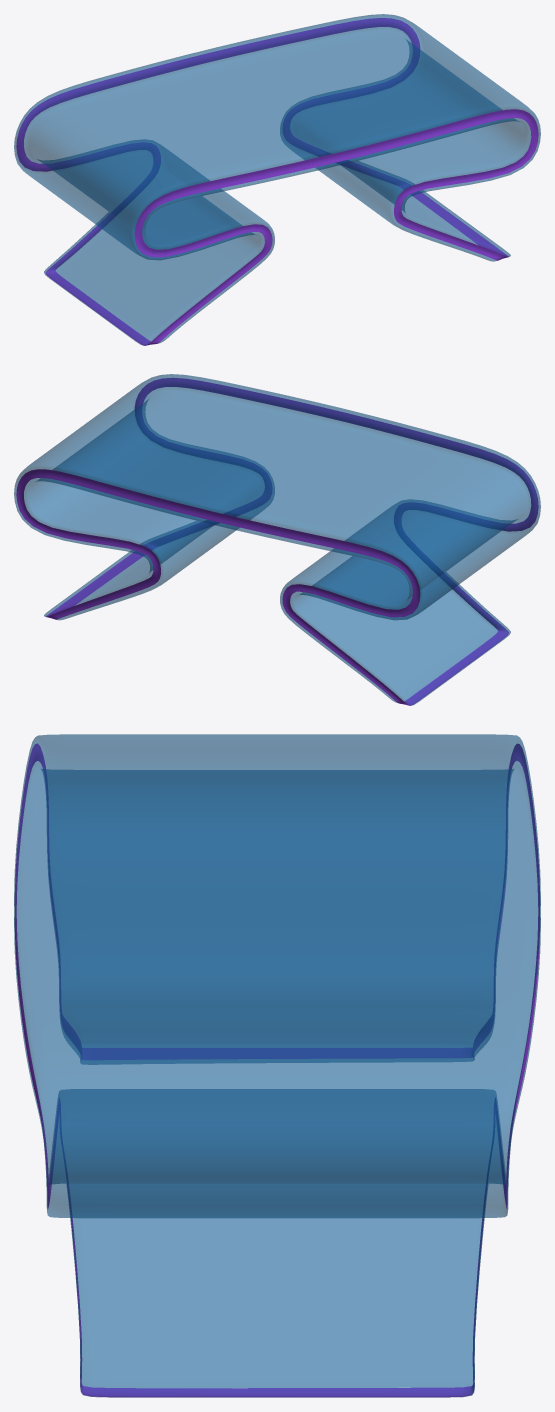
File: desk-transformed.glb
The picture shows the model from 3 angles, top to bottom: view 1: azimuth 30°, elevation 25°; view 2: azimuth 150°, elevation 25°; view 3: azimuth 270°, elevation 25°; orthographic projection. The views are drawn at different scales.
Parts seen in each view (by area): view 1: Object_2, Object_3; view 2: Object_2, Object_3; view 3: Object_2, Object_3.
Boxes of the visible parts, x1,y1,x2,y2 form: Object_2: (14, 14, 540, 345); Object_3: (16, 18, 538, 345); Object_2: (14, 374, 540, 705); Object_3: (16, 377, 538, 705); Object_2: (14, 734, 540, 1397); Object_3: (14, 743, 540, 1397).
Size of the model in its own units: 3.3 by 1.3 by 1.88.
